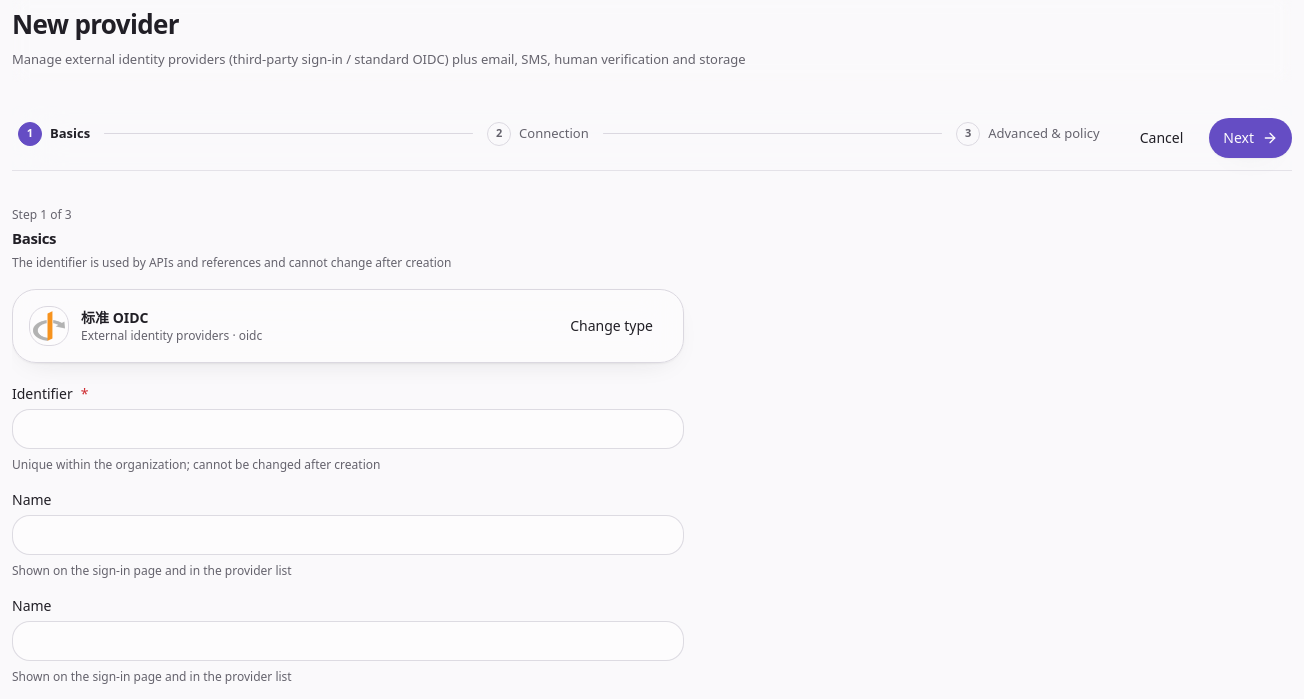
Scenario: ProviderEditPage › 选择身份链接后只显示入方向连接与连接字段
Expected: the text "标准 OIDC" is shown, x1=81 y1=308 x2=148 y2=327
Click the button "3 Advanced & policy" at [1028, 134], box x1=950 y1=118 x2=1106 y2=150
(page scrolled)
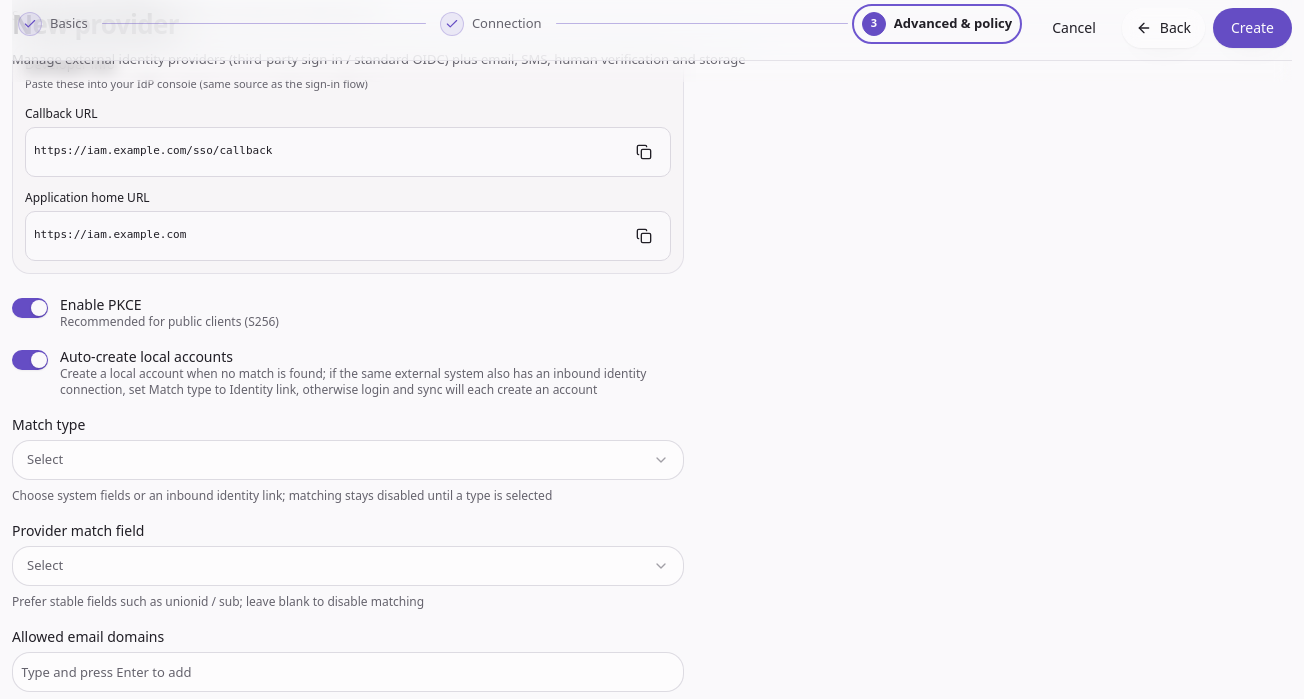
Click the dropdown named "Match type" at [45, 459], box x1=12 y1=440 x2=684 y2=480
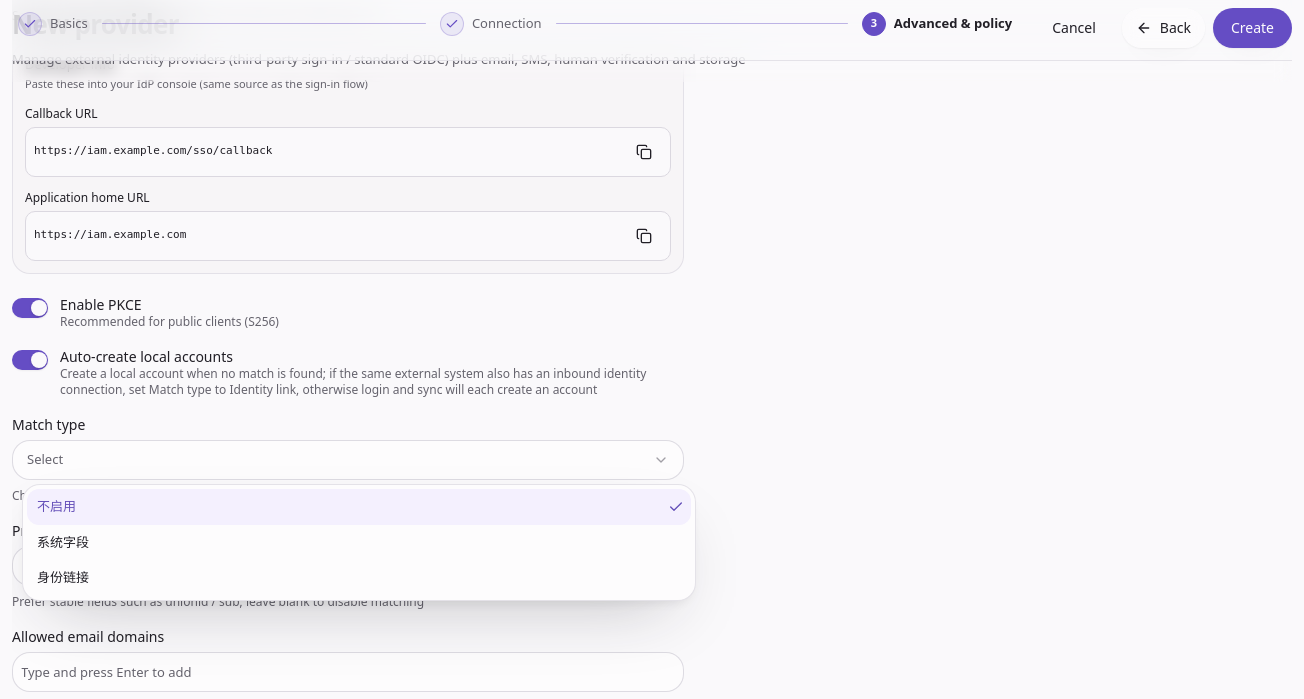
Click the option "身份链接" at [63, 577], box x1=37 y1=568 x2=89 y2=586
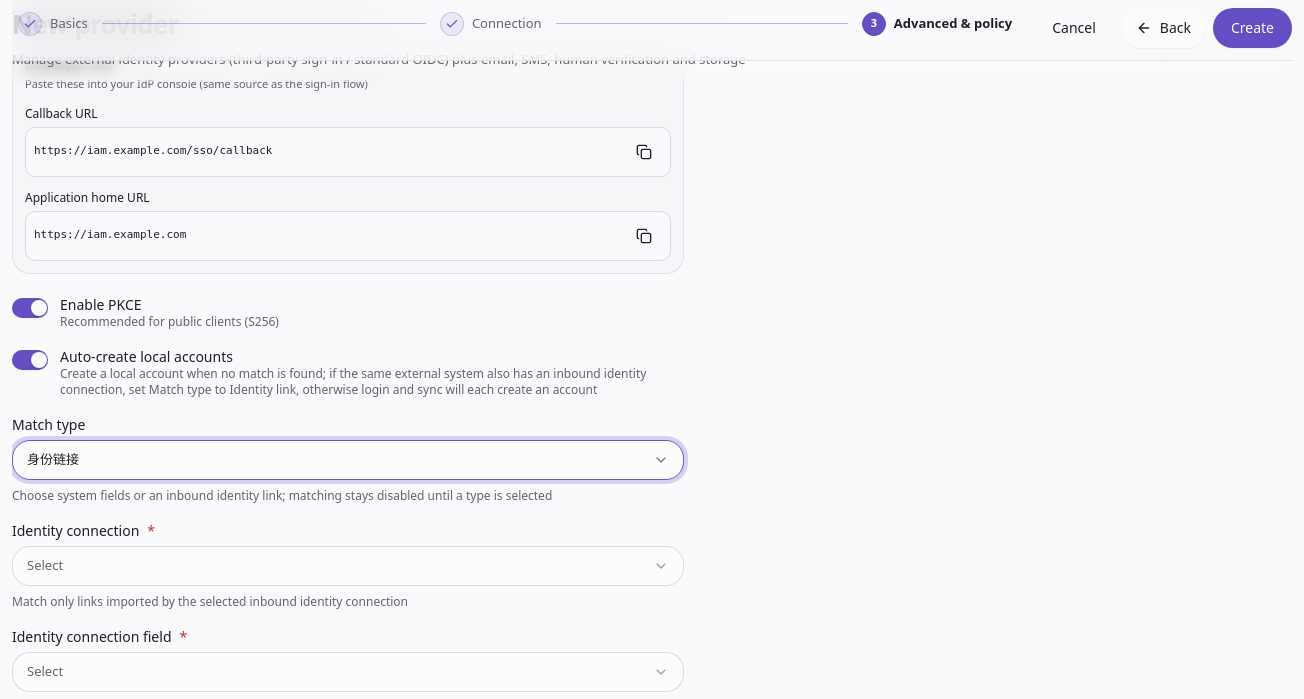
Click the dropdown named "Identity connection*" at [45, 565], box x1=12 y1=546 x2=684 y2=586
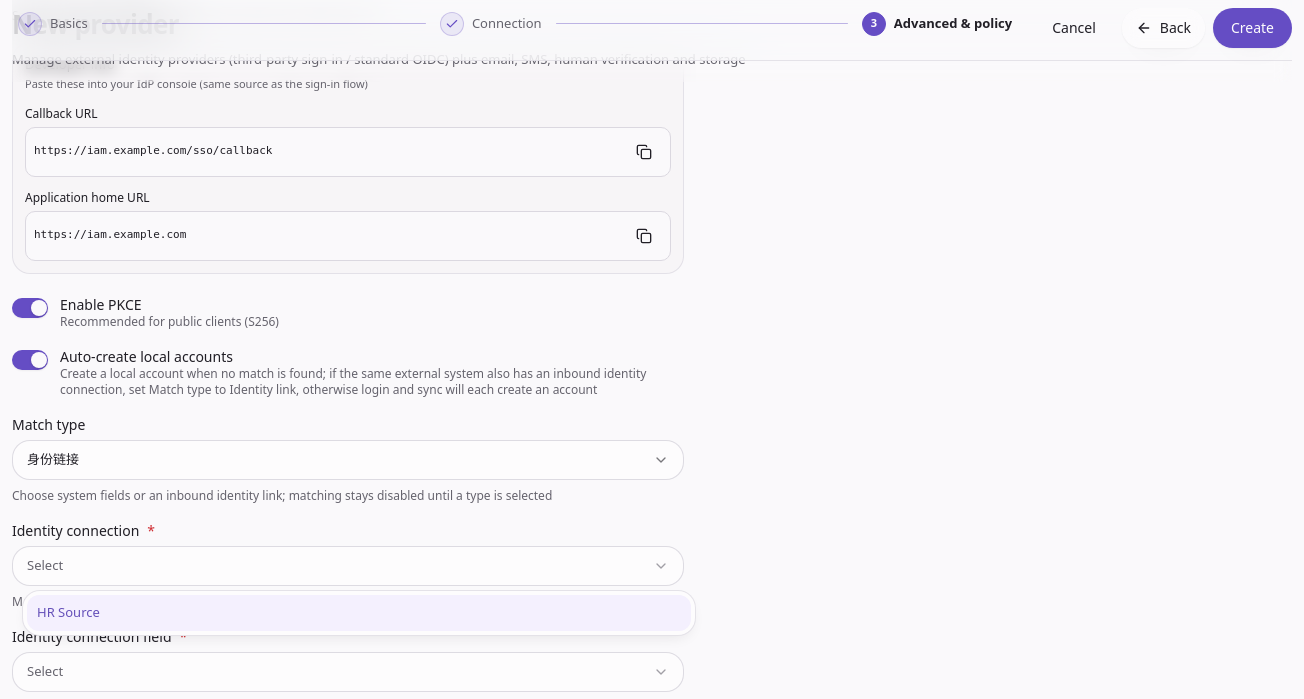
Now the dropdown named "Identity connection field" is shown, box x1=12 y1=652 x2=684 y2=692
Now the option "HR Source" is shown, box x1=27 y1=595 x2=691 y2=630
